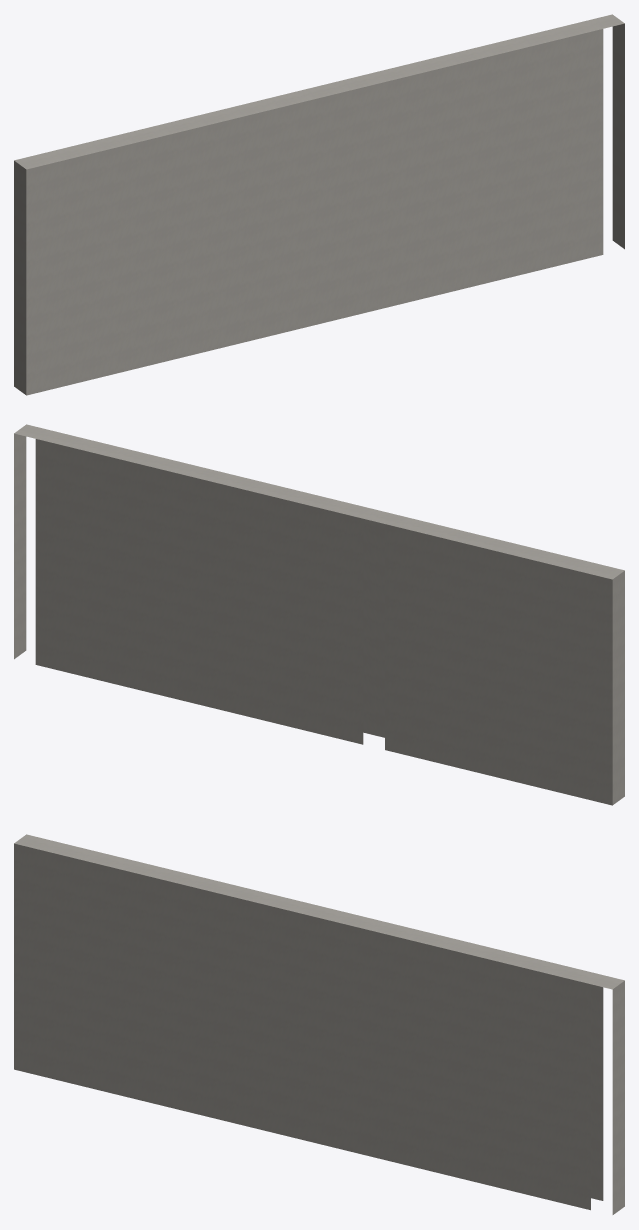
The model's file is WallI.obj.
3 renders of one model, top to bottom at view 1: azimuth 30°, elevation 25°; view 2: azimuth 150°, elevation 25°; view 3: azimuth 330°, elevation 25°, orthographic.
Visible parts, largest first — view 1: Box011; view 2: Box011; view 3: Box011.
Boxes of the visible parts, x1=… form: Box011: x1=14, y1=14, x2=624, y2=395; Box011: x1=14, y1=424, x2=624, y2=805; Box011: x1=14, y1=834, x2=624, y2=1214.
Bounding box in the file's own units: 327 × 118 × 11.81.
